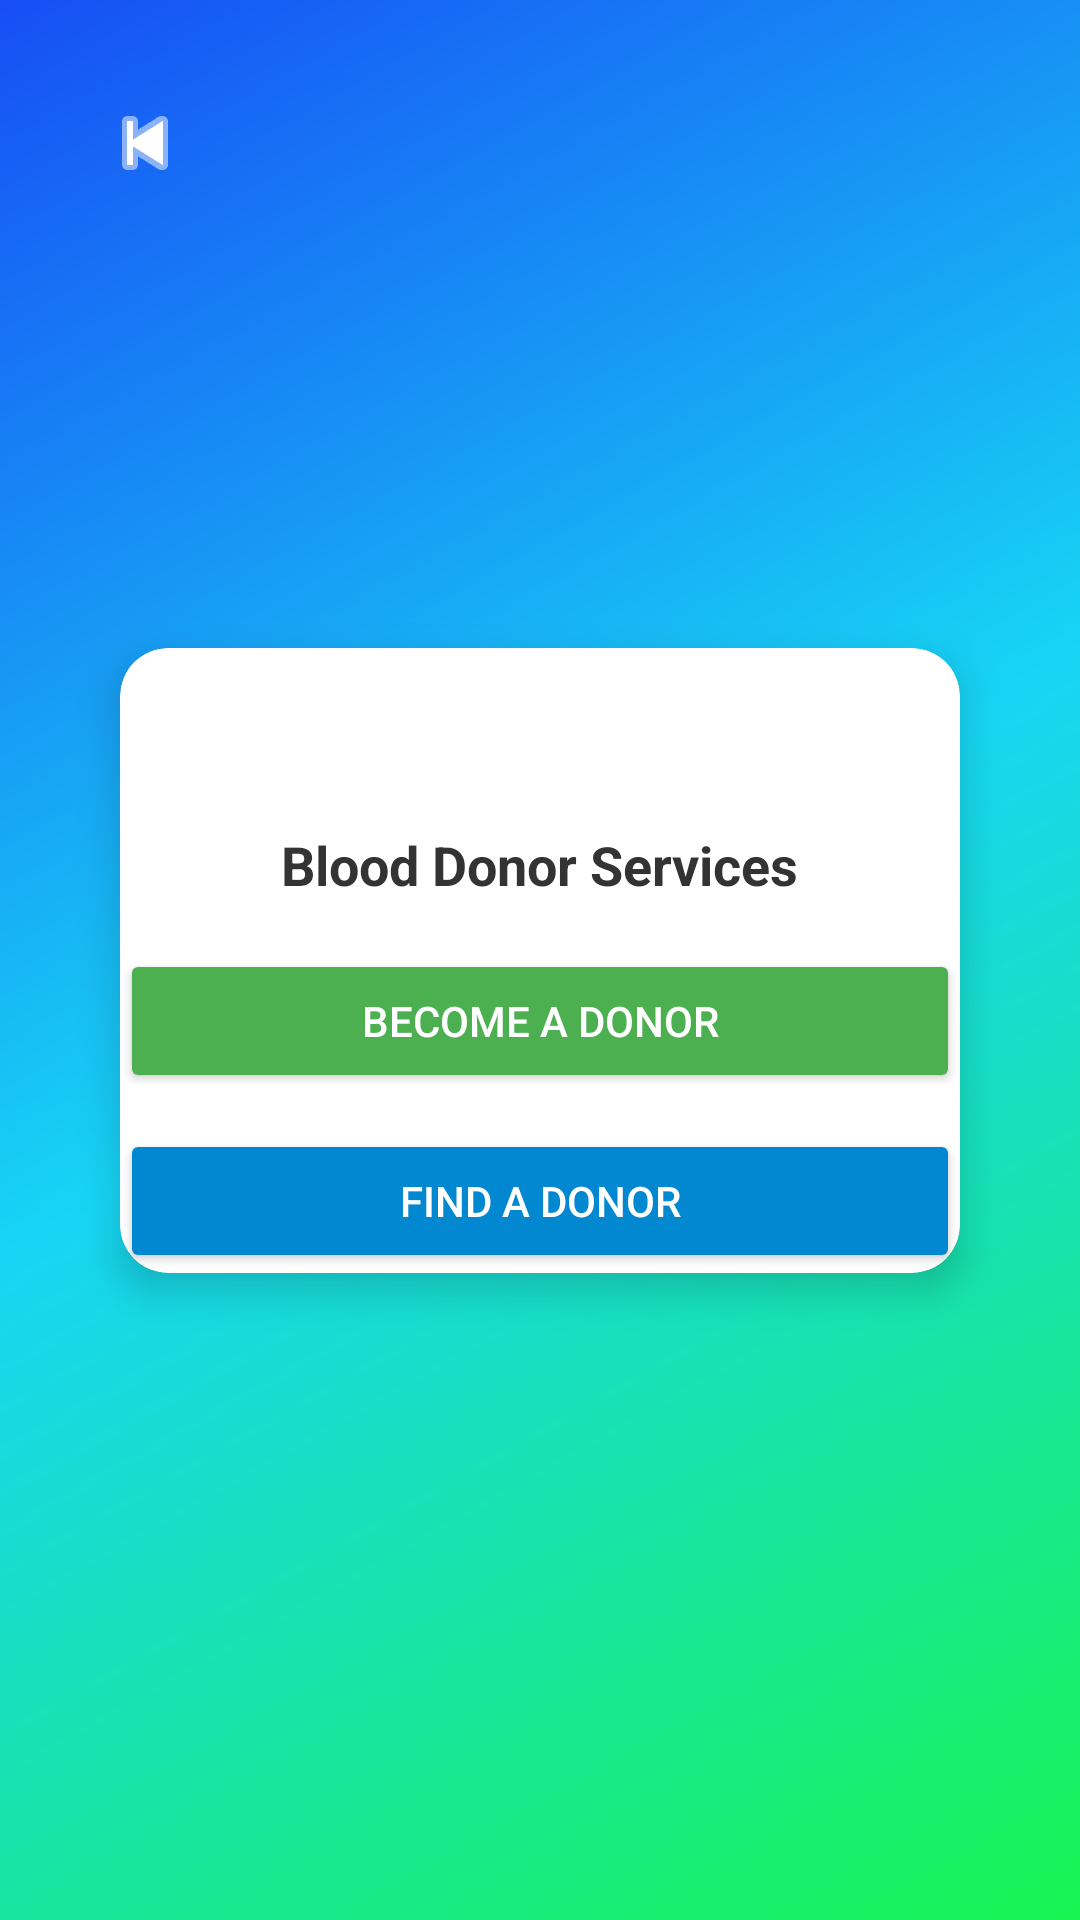

Named icons in this screenshot (1080w x 1920h) and their bounding boxes, BBox(x1, y1, x2, y2):
Back: BBox(122, 116, 168, 170)
